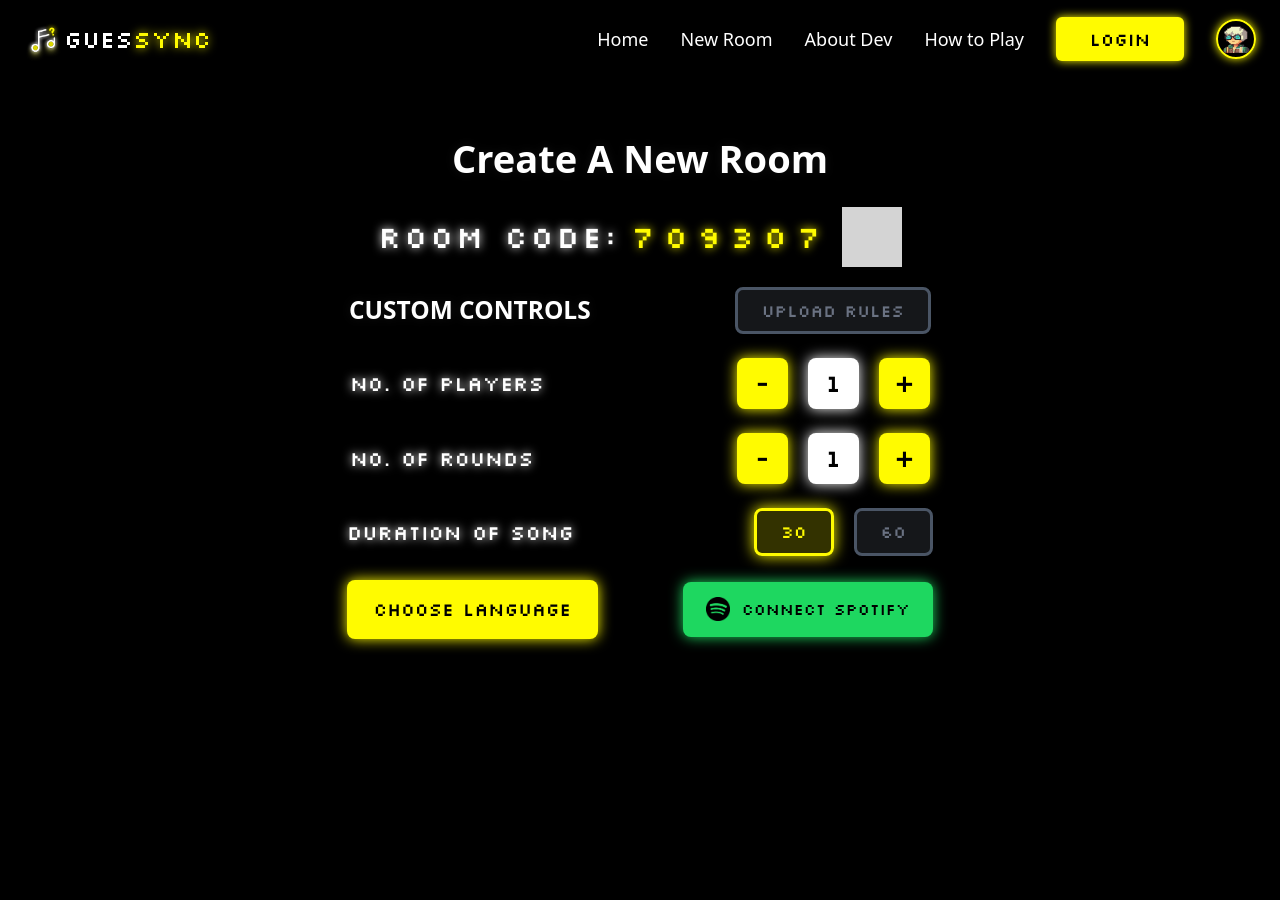
Scenario: CreateRoom Page › 4. Allows increasing number of players
Click the button "+" in the row of "NO. OF PLAYERS" at point(904, 384), box [879,358,930,409]
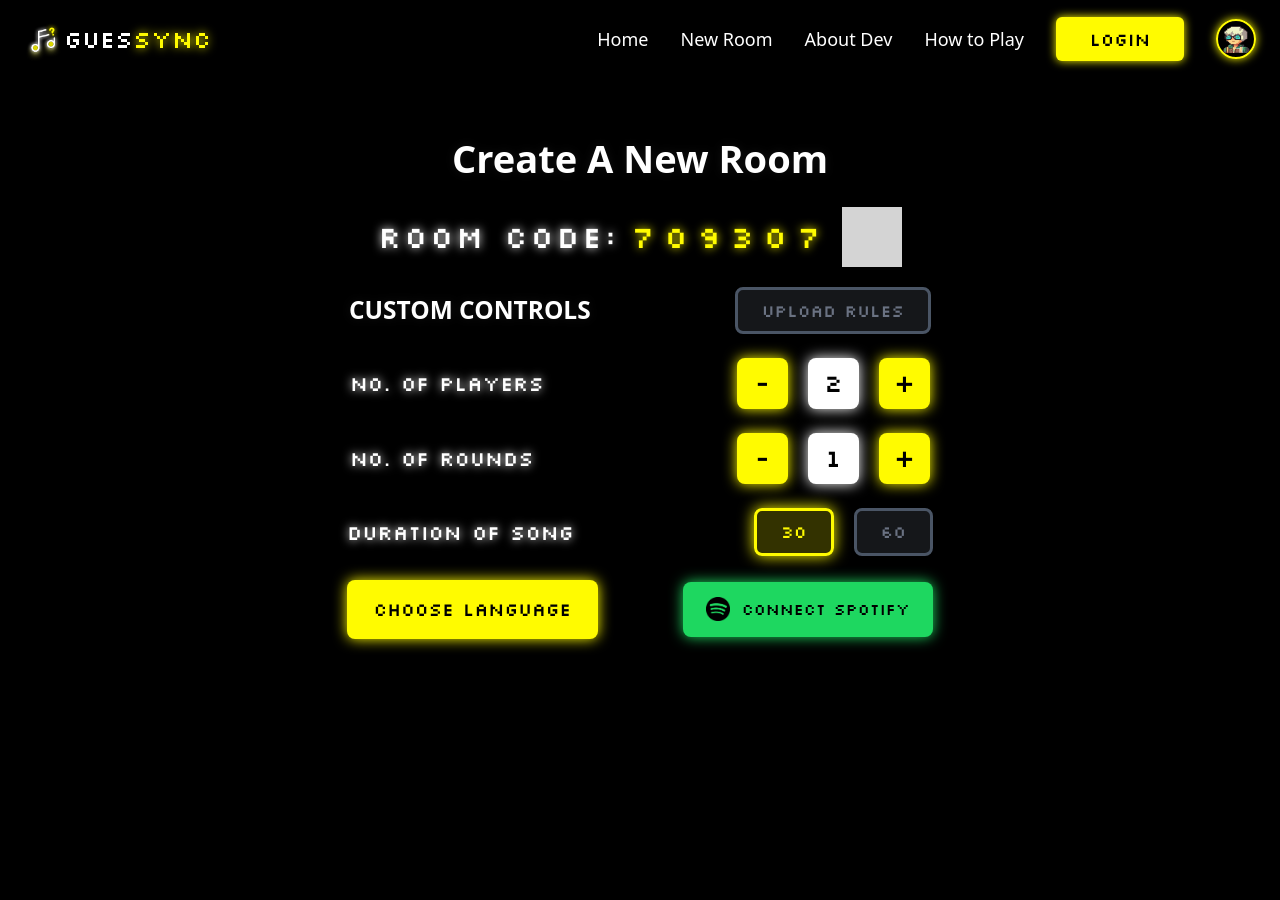
expect the text "2" is shown: met, box [808,358,859,409]
